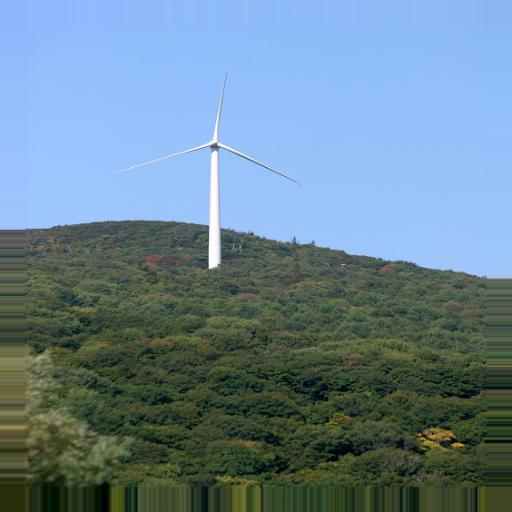wind turbine: (115, 71, 304, 272)
